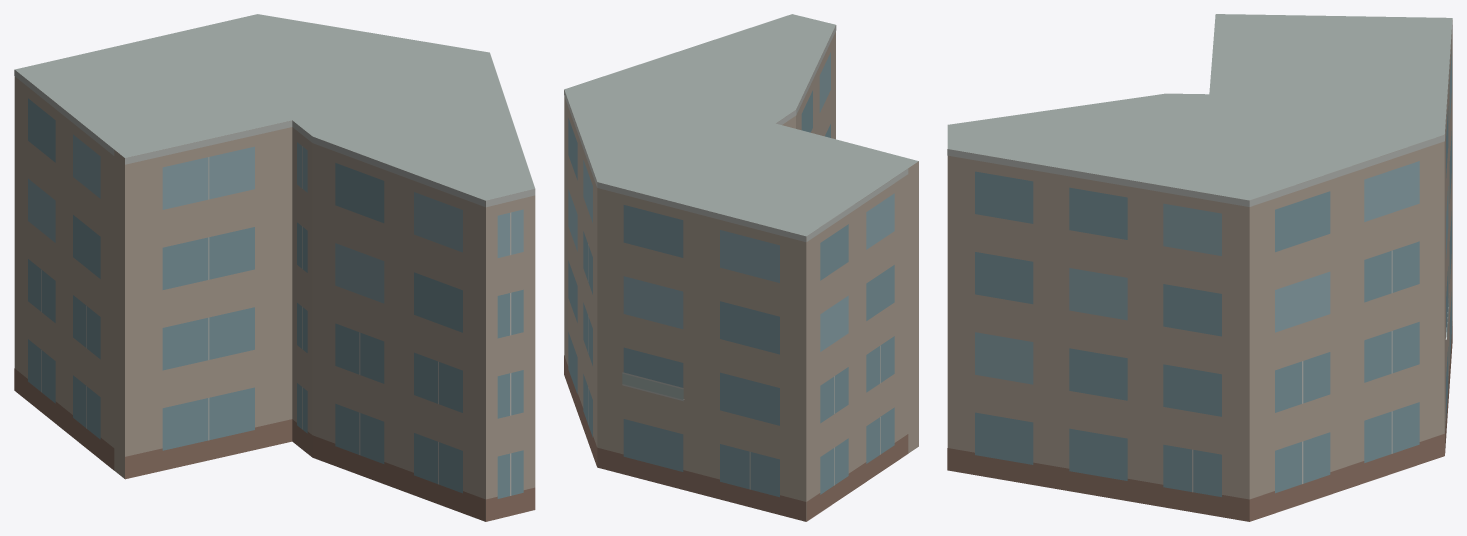
Rendered from survey-upis-32518691.glb.
3 renders of one model, left to right at view 1: azimuth 30°, elevation 25°; view 2: azimuth 150°, elevation 25°; view 3: azimuth 270°, elevation 25°, orthographic. The views are drawn at different scales.
Visible parts, largest first — view 1: survey-upis-32518691.tmp; view 2: survey-upis-32518691.tmp; view 3: survey-upis-32518691.tmp.
Boxes of the visible parts, x1,y1,x2,y2 form: survey-upis-32518691.tmp: (14, 14, 535, 521); survey-upis-32518691.tmp: (564, 14, 918, 521); survey-upis-32518691.tmp: (947, 14, 1452, 521).
Size of the model in its own units: 14.76 by 11.85 by 16.89.
